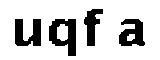a: (117, 16, 148, 50)
f: (82, 4, 107, 49)
q: (46, 15, 79, 58)
u: (10, 15, 43, 48)
